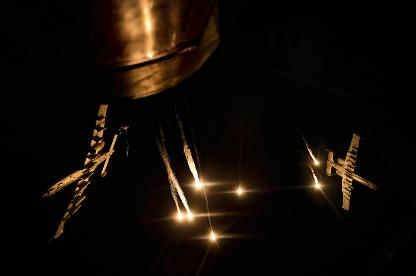A10: (40, 103, 122, 240), (324, 133, 378, 209)
